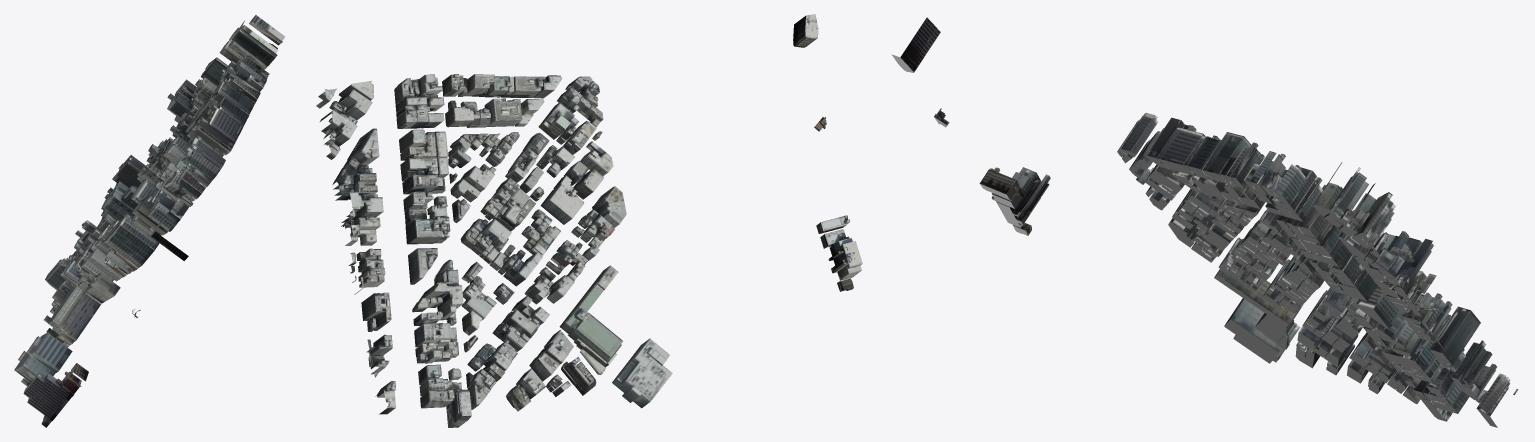
File: 9886_bldg_Building.glb
The picture shows the model from 3 angles, left to right: view 1: azimuth 30°, elevation 25°; view 2: azimuth 150°, elevation 25°; view 3: azimuth 270°, elevation 25°; orthographic projection. The views are drawn at different scales.
Size of the model in its own units: 452 by 307 by 516.
Materials: 4 (2 with a texture image).
